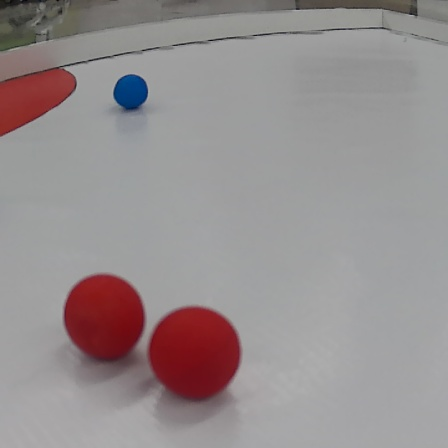blue: (112, 72, 149, 109)
red: (146, 306, 243, 400), (63, 273, 145, 361)
red_base: (1, 63, 81, 135)
